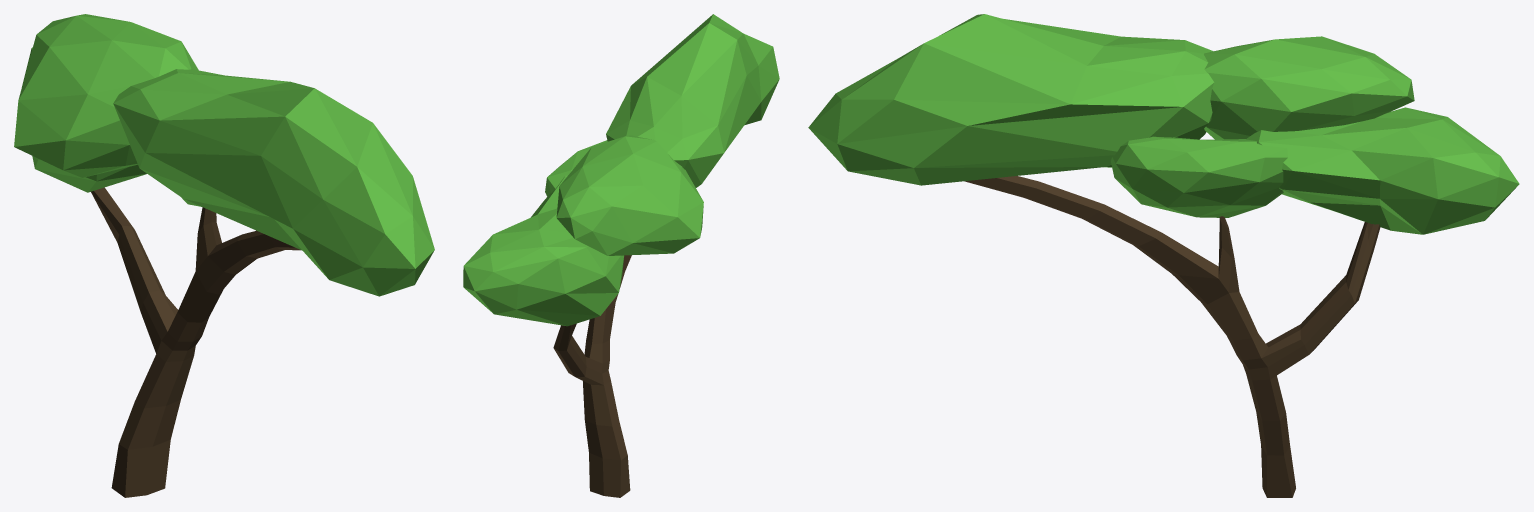
The model's file is acacia.fbx.
3 views of the same model, side by side, from view 1: azimuth 30°, elevation 25°; view 2: azimuth 150°, elevation 25°; view 3: azimuth 270°, elevation 25° (orthographic). The views are drawn at different scales.
Parts seen in each view (by area): view 1: acacia; view 2: acacia; view 3: acacia.
Part boxes in pixels (<box>): acacia: <box>14,14,434,497</box>; acacia: <box>463,14,779,497</box>; acacia: <box>808,14,1519,497</box>.
Bounding box in the file's own units: 372 × 798 × 1061.
